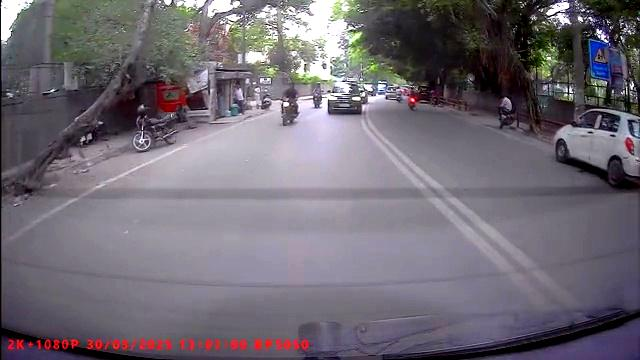motorcycle_without_helmet: (280, 80, 301, 127)
